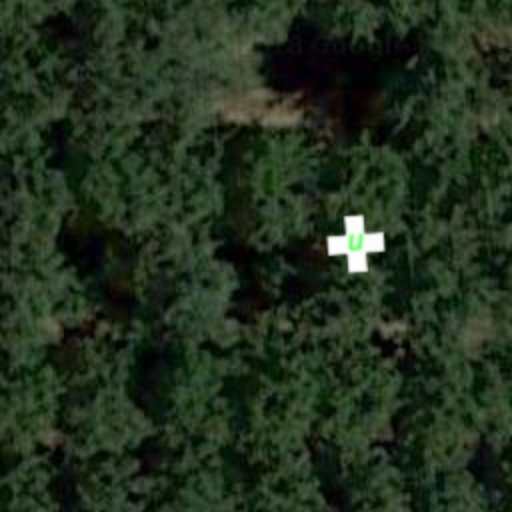cross: (324, 212, 388, 276)
